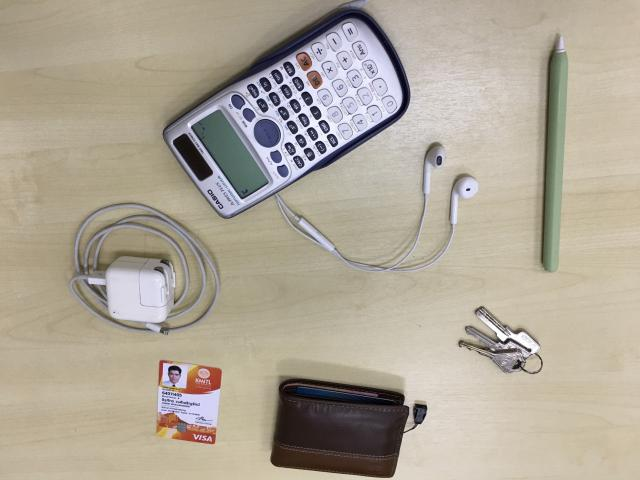Keys: (458, 308, 544, 376)
Wallet: (269, 378, 426, 480)
wire: (274, 142, 481, 274), (69, 203, 222, 335)
